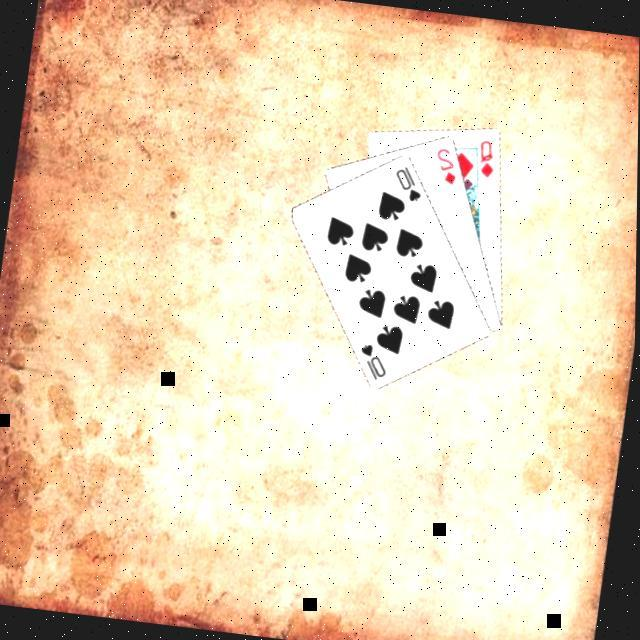10S: (354, 340, 394, 386), (389, 162, 429, 206)
2D: (429, 144, 464, 190)
QD: (473, 138, 502, 182)
